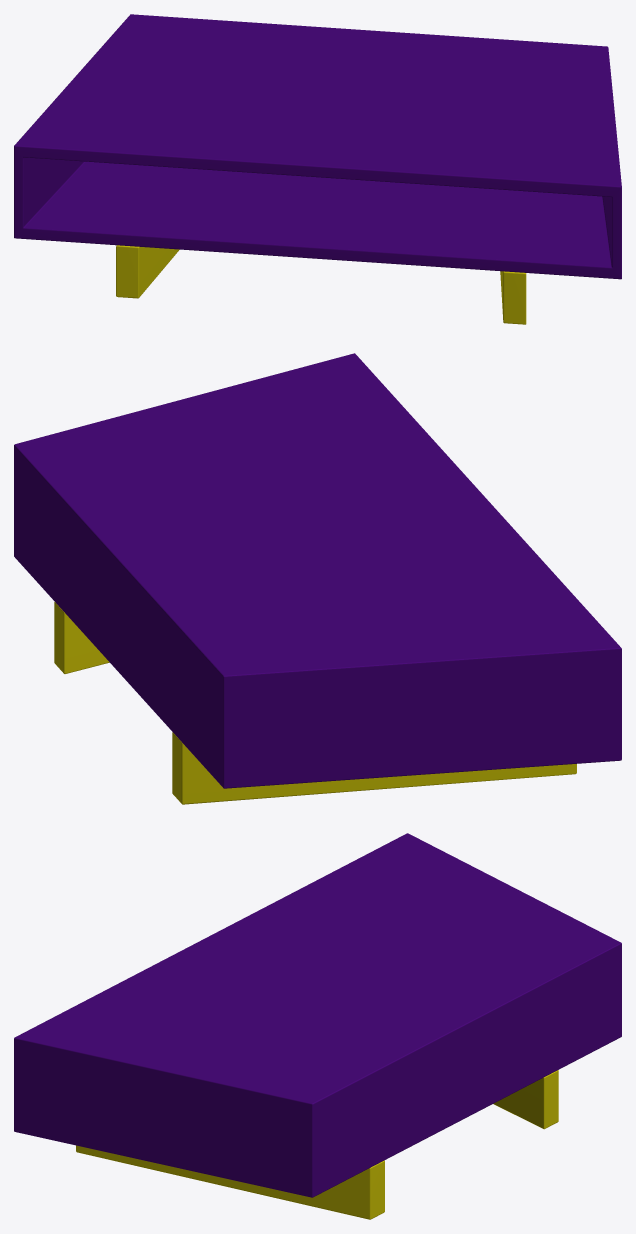
The model's file is coffee_table.fbx.
3 renders of one model, top to bottom at view 1: azimuth 30°, elevation 25°; view 2: azimuth 150°, elevation 25°; view 3: azimuth 270°, elevation 25°, orthographic. The views are drawn at different scales.
Visible parts, largest first — view 1: pCube62; view 2: pCube62; view 3: pCube62.
Boxes of the visible parts, x1,y1,x2,y2 form: pCube62: [14, 14, 621, 324]; pCube62: [14, 353, 621, 804]; pCube62: [14, 833, 621, 1219].
Bounding box in the file's own units: 135 × 34.05 × 128.
